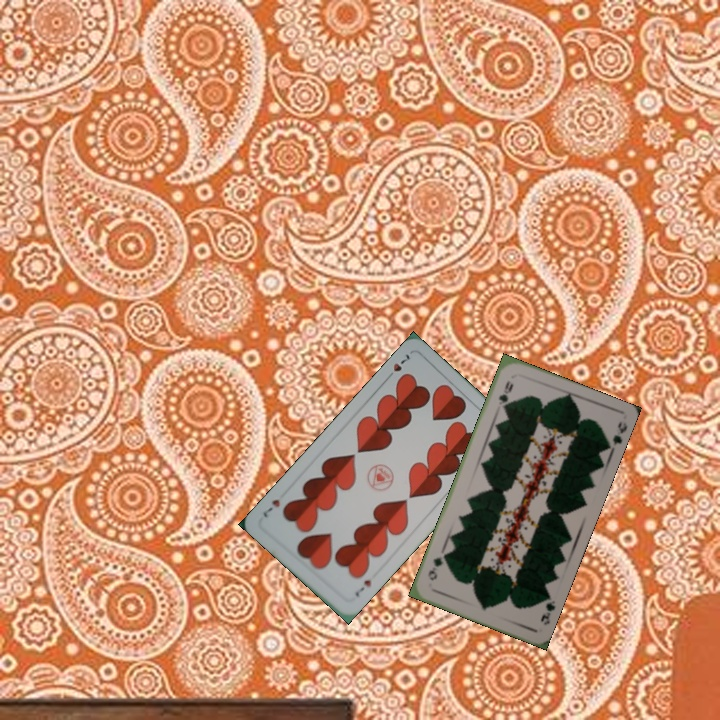G9: (536, 590, 558, 627), (494, 376, 516, 412)
H7: (382, 349, 413, 383), (350, 575, 374, 599)
